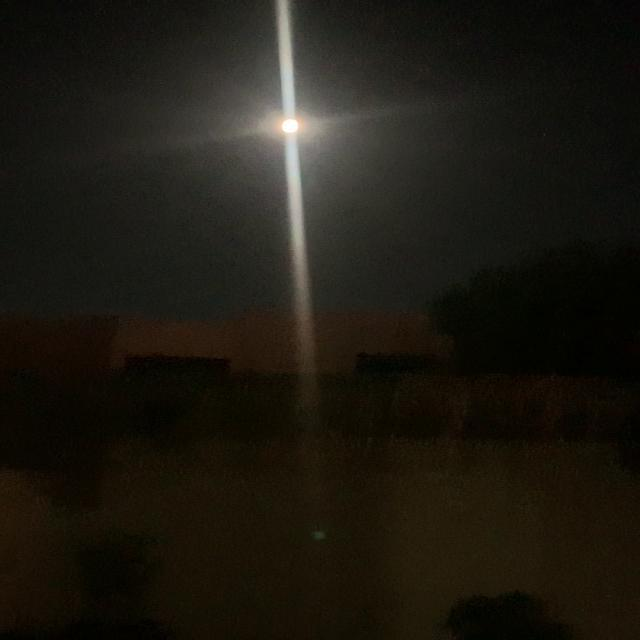moon: (261, 105, 323, 138)
